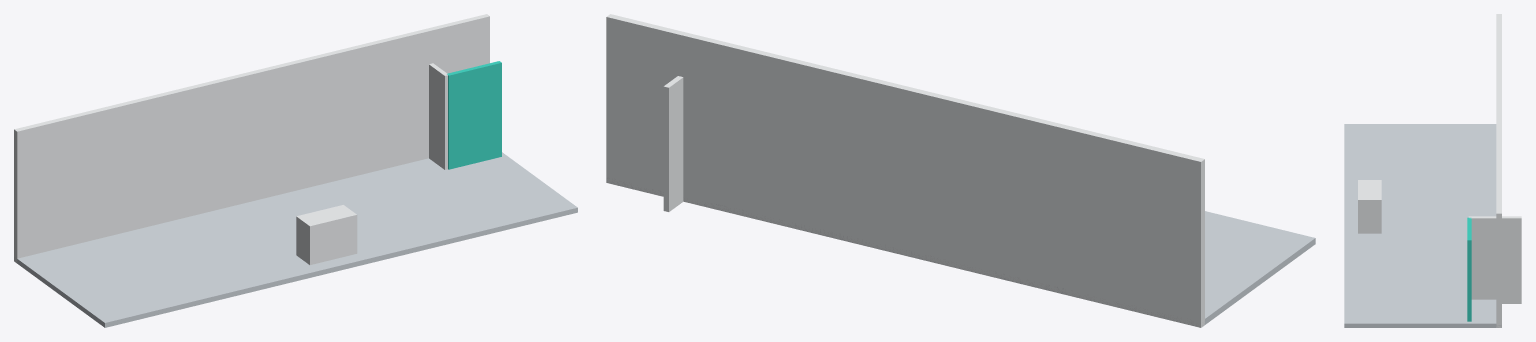
3 renders of one model, left to right at view 1: azimuth 30°, elevation 25°; view 2: azimuth 150°, elevation 25°; view 3: azimuth 270°, elevation 25°, orthographic. The views are drawn at different scales.
Visible parts, largest first — view 1: Exhibition Booth Concept; view 2: Exhibition Booth Concept; view 3: Exhibition Booth Concept.
Part boxes in pixels (bbox=[...]): Exhibition Booth Concept: bbox=[14, 14, 577, 327]; Exhibition Booth Concept: bbox=[606, 14, 1315, 327]; Exhibition Booth Concept: bbox=[1344, 14, 1521, 327].
Size of the model in its own units: 12 by 3.2 by 4.51.
